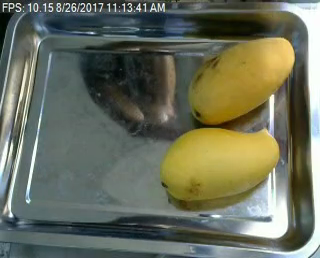Mango: (185, 32, 297, 123), (159, 124, 280, 207)
